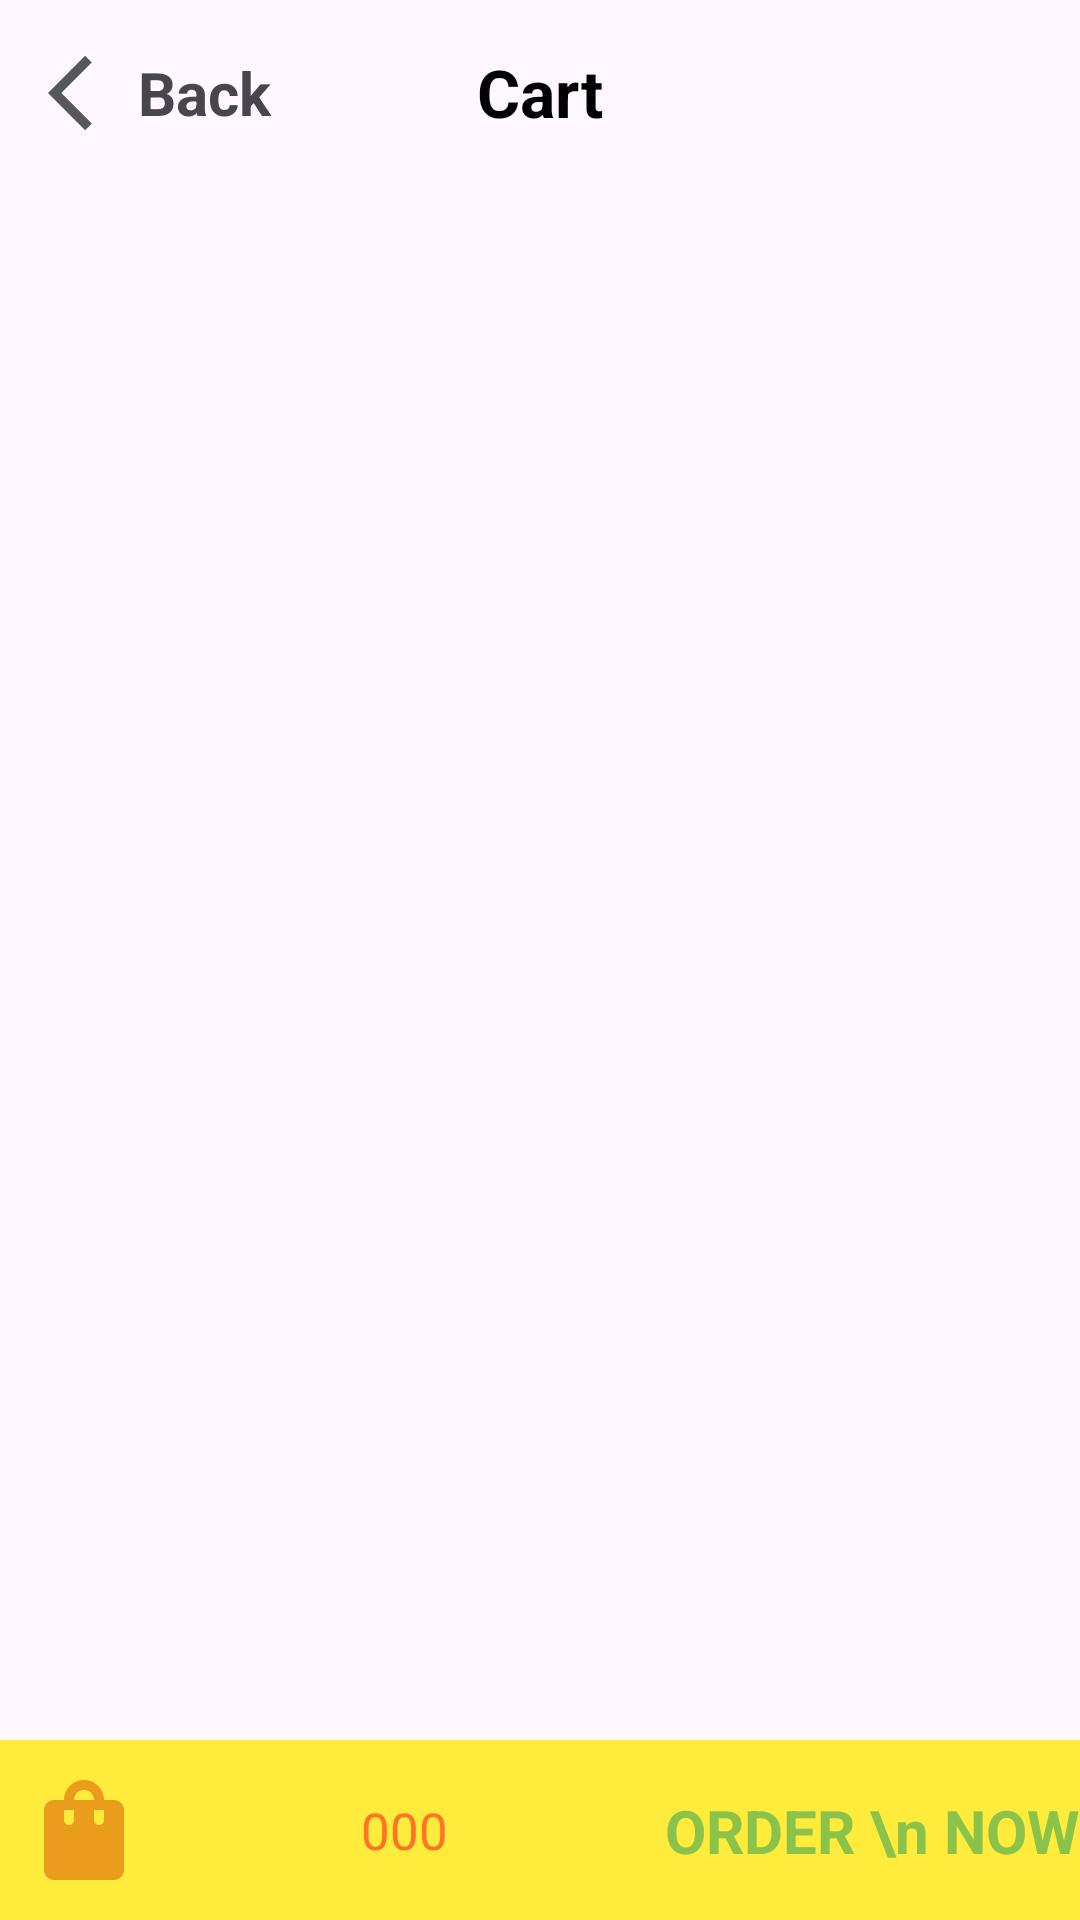

Icons on this 1080 x 1920 Android screen, each with its box as [x1,y1,x2,y2]:
bag: [44,1780,124,1880]
